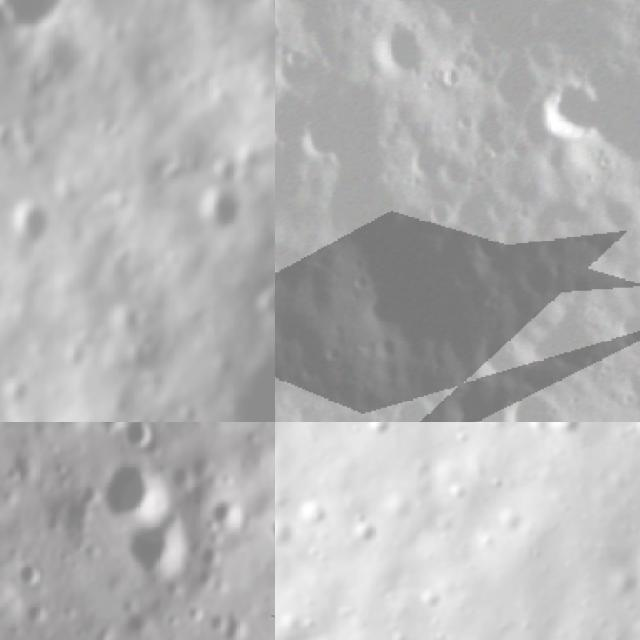crater: (580, 57, 640, 180), (520, 296, 597, 370), (122, 508, 194, 586), (100, 454, 174, 526), (366, 16, 432, 84), (534, 71, 595, 144), (0, 0, 87, 45), (193, 181, 256, 240), (6, 198, 66, 255), (438, 374, 504, 422), (275, 148, 319, 214), (451, 185, 503, 240), (501, 378, 564, 422), (275, 83, 315, 149), (275, 230, 318, 291), (207, 491, 248, 543), (383, 383, 436, 422), (404, 134, 448, 180), (14, 555, 48, 591), (614, 300, 640, 345), (437, 58, 466, 92), (424, 187, 448, 227), (220, 0, 275, 14), (90, 422, 130, 438), (266, 509, 275, 553)
